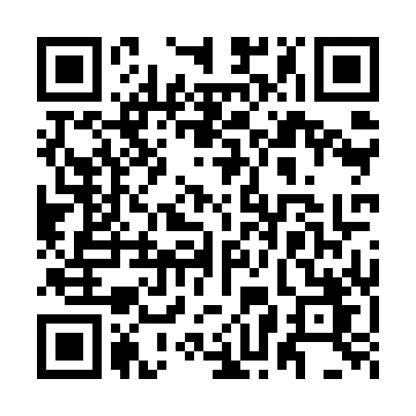qr: (34, 30, 383, 383)
